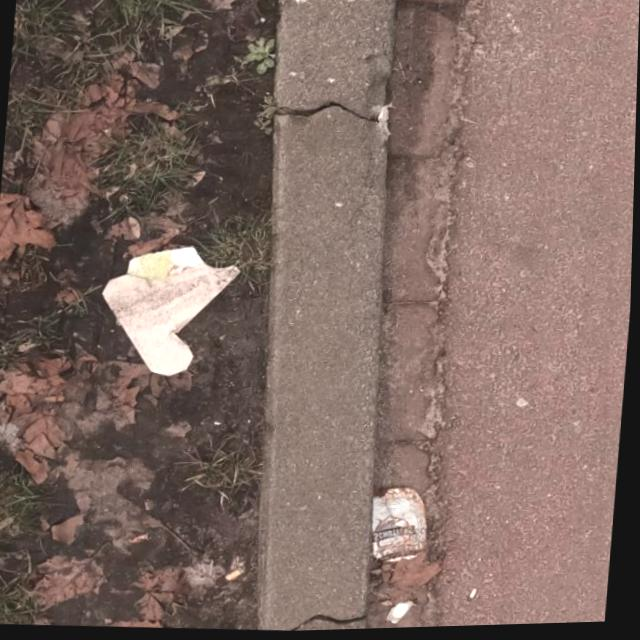Can-Metal: (369, 486, 436, 567)
